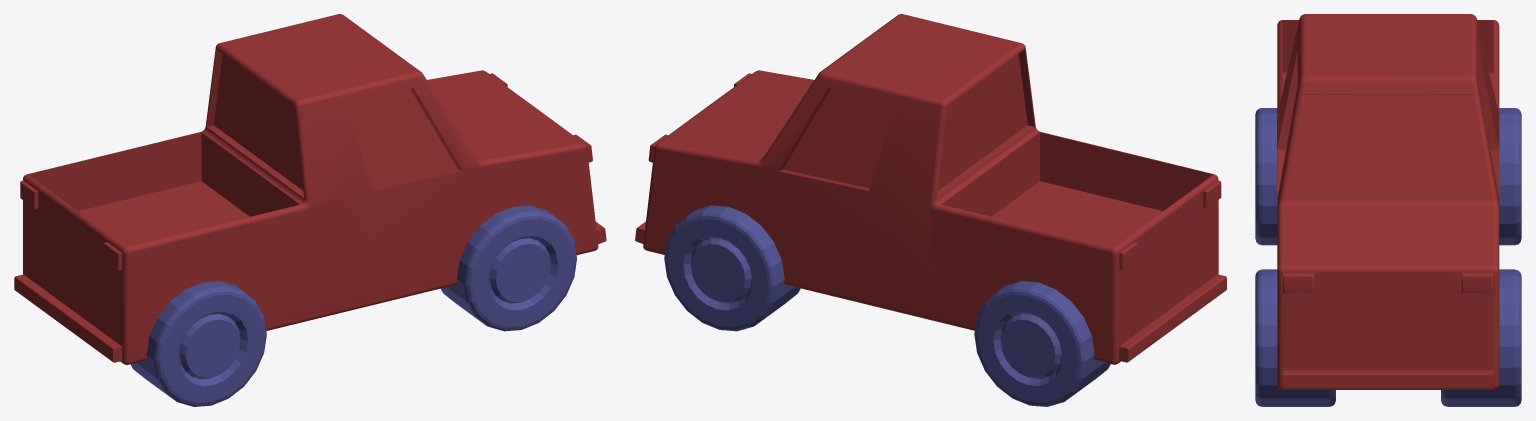
Rendered from truck.fbx.
3 views of the same model, side by side, from view 1: azimuth 30°, elevation 25°; view 2: azimuth 150°, elevation 25°; view 3: azimuth 270°, elevation 25° (orthographic). The views are drawn at different scales.
Parts seen in each view (by area): view 1: body, pCylinder10, pCylinder2; view 2: body, pCylinder10; view 3: body, pCylinder10, pCylinder2.
Boxes of the visible parts, bbox=[...] form: body: bbox=[14, 14, 606, 364]; pCylinder10: bbox=[130, 206, 576, 406]; pCylinder2: bbox=[441, 205, 576, 330]; body: bbox=[635, 14, 1226, 364]; pCylinder10: bbox=[664, 205, 1110, 406]; body: bbox=[1277, 14, 1499, 389]; pCylinder10: bbox=[1255, 108, 1521, 406]; pCylinder2: bbox=[1255, 269, 1335, 406].
Bounding box in the file's own units: 3.49 × 1.78 × 1.53.
